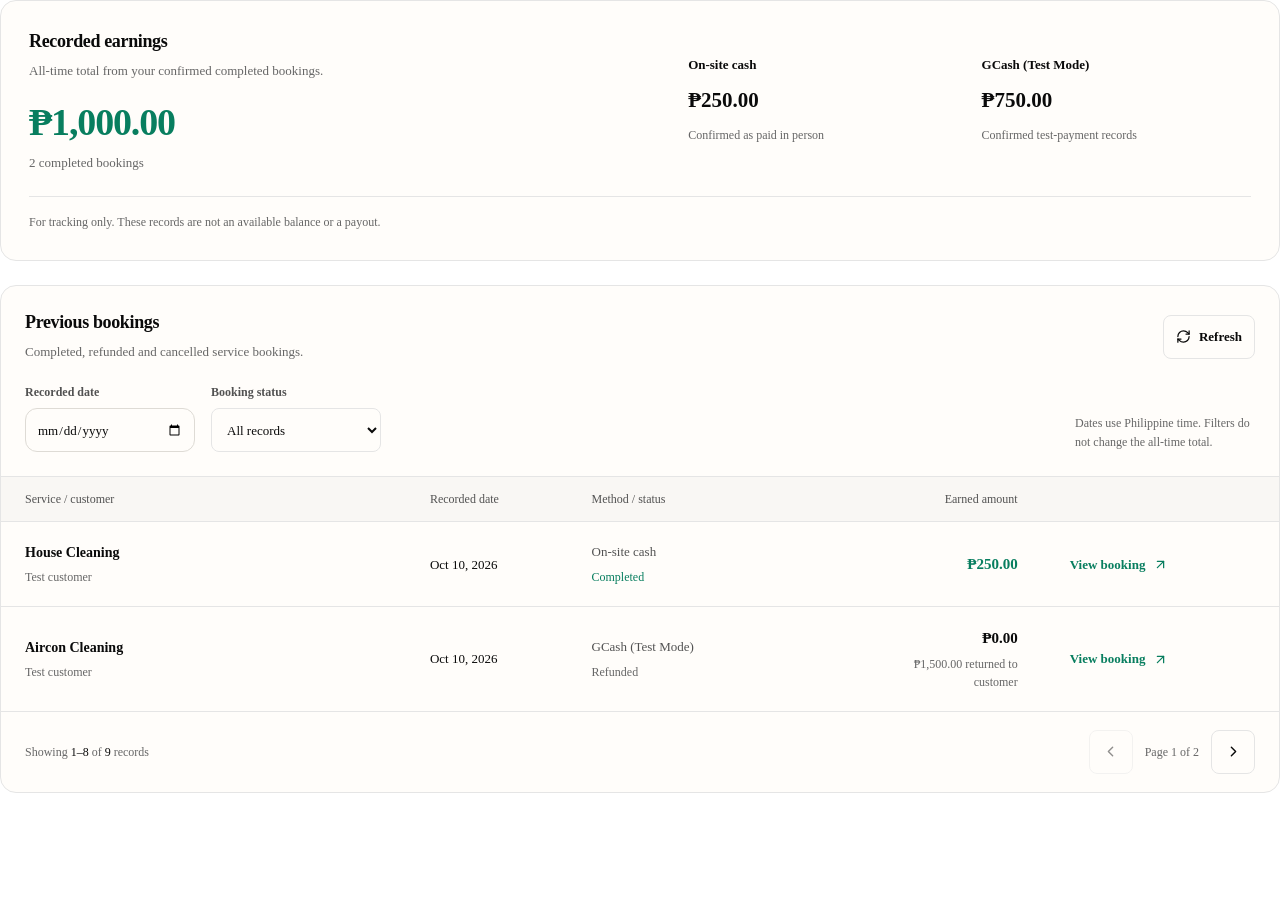
Test case: Provider payment records › uses server pagination to reach older records and keeps the complete lifetime total
expect the text "House Cleaning" is shown: met, box [25,545,120,560]
Click the button named "Next page" at (1233, 752), box [1211,730,1255,774]
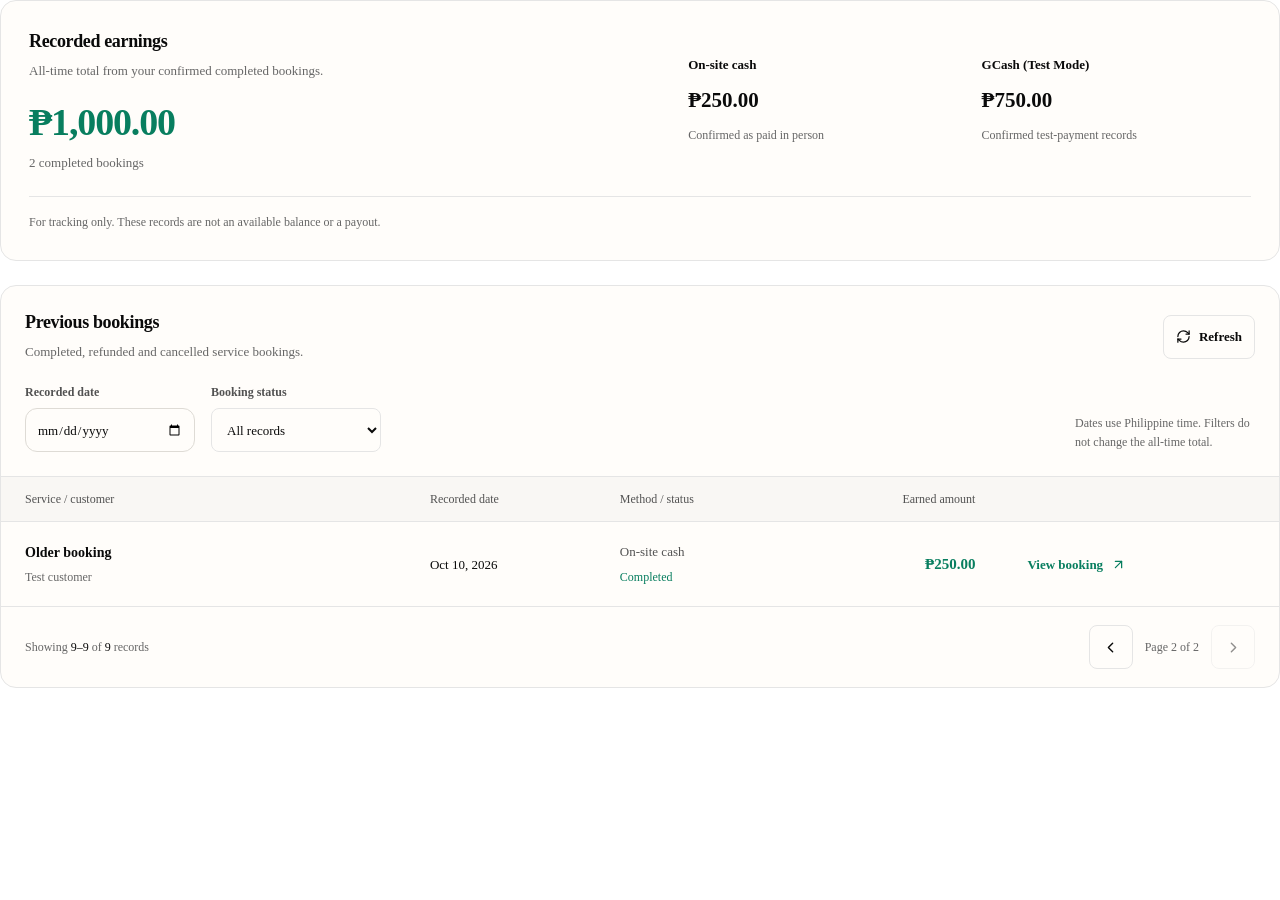
expect the button named "Next page" is disabled: met, box [1211,625,1255,669]
expect the text "Older booking" is shown: met, box [25,545,112,560]
expect the text "Page 2 of 2" is shown: met, box [1145,638,1199,656]
